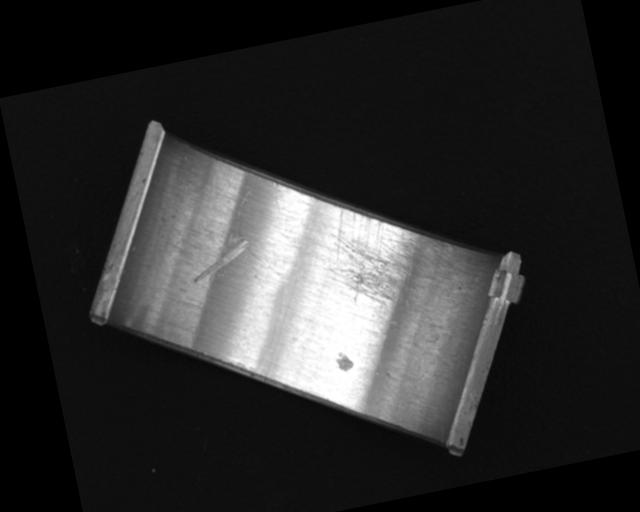bruise: (334, 349, 355, 374)
nick: (185, 232, 254, 284), (230, 186, 268, 269)
scratch: (311, 187, 456, 316)
